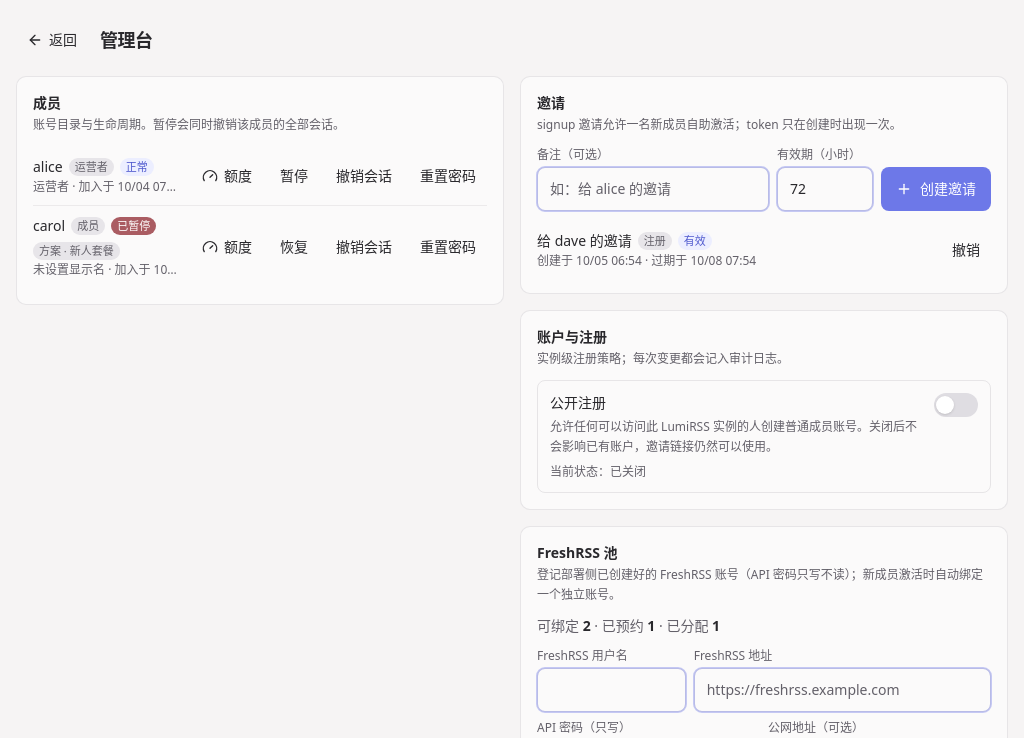
Test: 邀请管理 › 创建邀请 → 一次性展示完整激活链接 + 复制按钮
The width and height of the screenshot is (1024, 738).
Expected: the list with test id "admin-invite-list" is shown, top-left (537, 222), bottom-right (991, 276)
Click the button "创建邀请": [936, 188] box top-left (881, 166), bottom-right (991, 210)
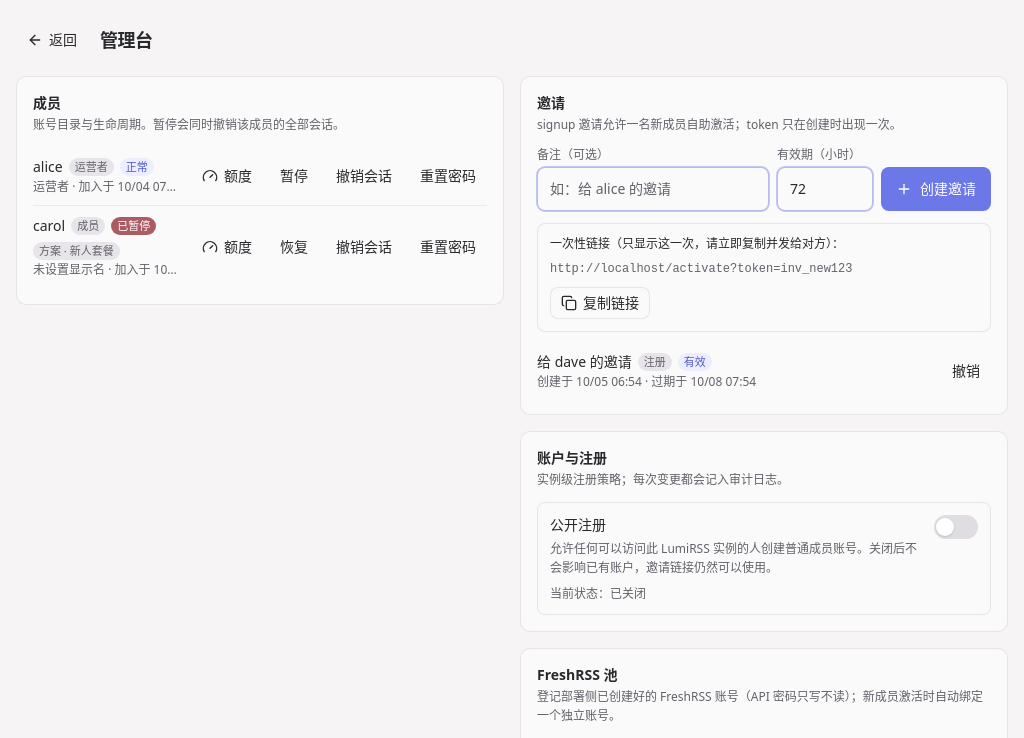
Expected: the button "复制链接" is shown, top-left (550, 287), bottom-right (650, 319)
